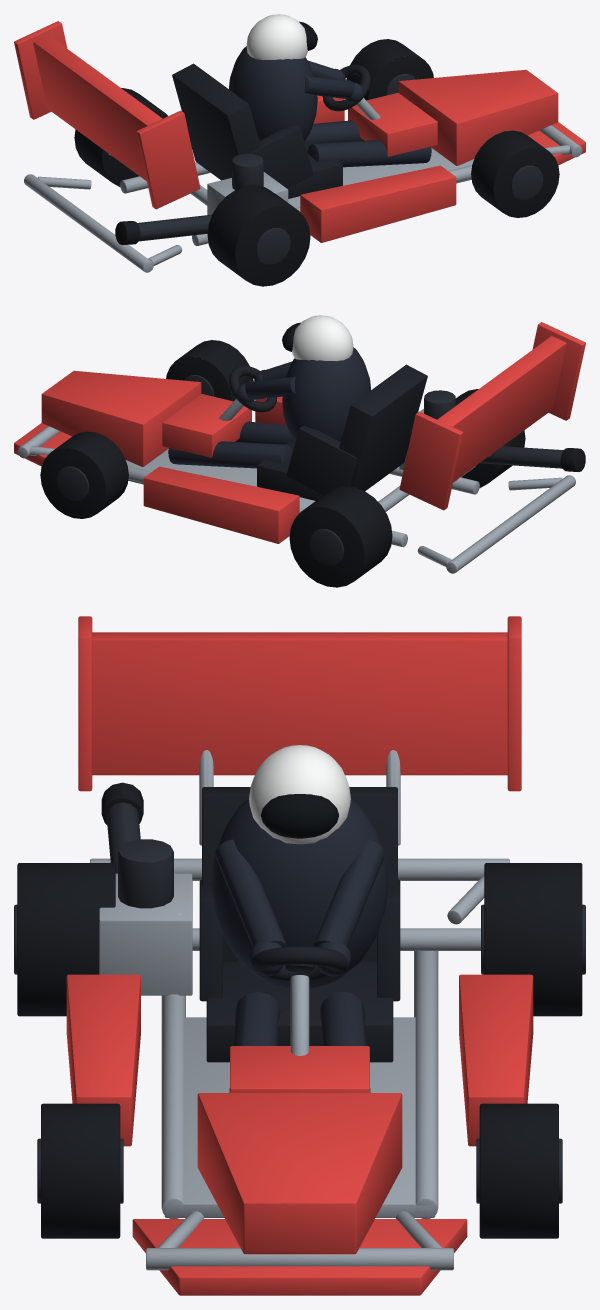
The model's file is kart-race-pulse.glb.
3 renders of one model, top to bottom at view 1: azimuth 30°, elevation 25°; view 2: azimuth 150°, elevation 25°; view 3: azimuth 270°, elevation 25°, orthographic. The views are drawn at different scales.
Visible parts, largest first — view 1: KartRacePulse, Roue_0_maillage, Roue_2_maillage, Roue_3_maillage, Roue_1_maillage; view 2: KartRacePulse, Roue_3_maillage, Roue_1_maillage, Roue_2_maillage, Roue_0_maillage; view 3: KartRacePulse, Roue_0_maillage.
Part boxes in pixels (x1,y1,x2,y2): KartRacePulse: (14, 14, 585, 286); Roue_0_maillage: (207, 168, 309, 285); Roue_2_maillage: (471, 142, 558, 217); Roue_3_maillage: (346, 54, 432, 100); Roue_1_maillage: (103, 109, 167, 185); KartRacePulse: (14, 315, 585, 587); Roue_3_maillage: (42, 441, 128, 518); Roue_1_maillage: (290, 507, 363, 586); Roue_2_maillage: (167, 350, 253, 401); Roue_0_maillage: (420, 409, 496, 486); KartRacePulse: (17, 616, 582, 1295); Roue_0_maillage: (14, 881, 190, 974).
Size of the model in its own units: 2.1 by 0.7851 by 1.22.
